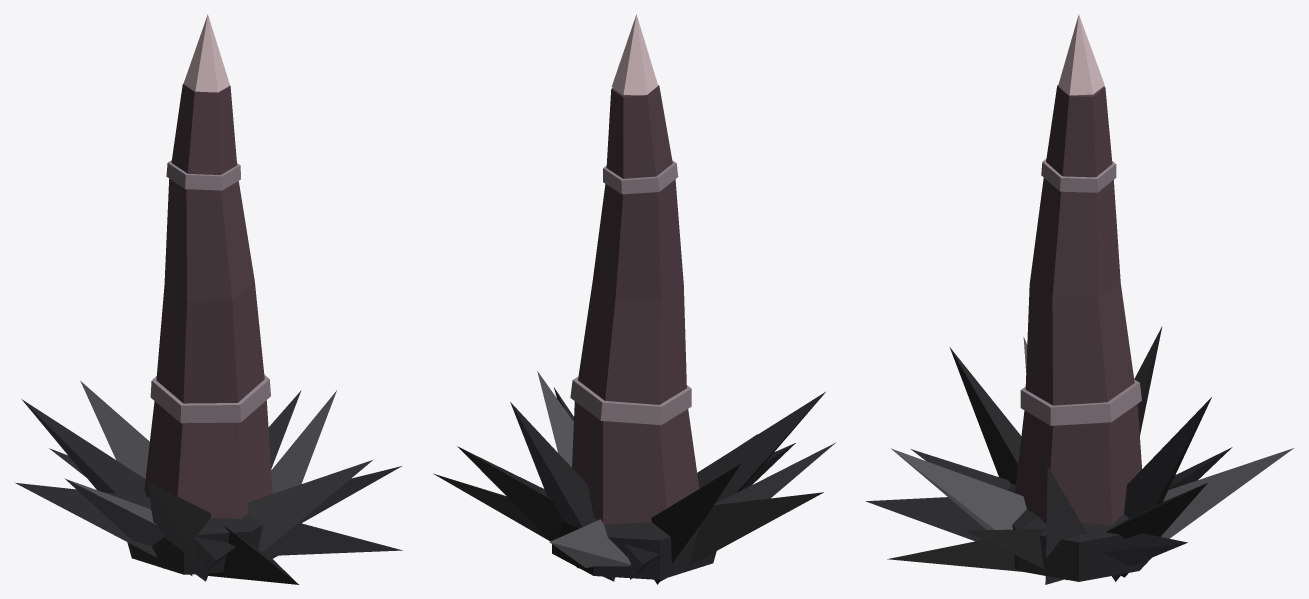
The model's file is twisted_support_vertical.obj.
The picture shows the model from 3 angles, left to right: view 1: azimuth 30°, elevation 25°; view 2: azimuth 150°, elevation 25°; view 3: azimuth 270°, elevation 25°; orthographic projection.
Visible parts, largest first — view 1: twisted_support_vertical_17, twisted_support_vertical_13, twisted_support_vertical_7, twisted_support_vertical_0, twisted_support_vertical_10, twisted_support_vertical_19, twisted_support_vertical_14, twisted_support_vertical_5, twisted_support_vertical_9, twisted_support_vertical_8, twisted_support_vertical_12, twisted_support_vertical_1 (+5 smaller); view 2: twisted_support_vertical_17, twisted_support_vertical_0, twisted_support_vertical_4, twisted_support_vertical_8, twisted_support_vertical_10, twisted_support_vertical_3, twisted_support_vertical_19, twisted_support_vertical_7, twisted_support_vertical_5, twisted_support_vertical_18, twisted_support_vertical_9, twisted_support_vertical_1 (+3 smaller); view 3: twisted_support_vertical_17, twisted_support_vertical_0, twisted_support_vertical_13, twisted_support_vertical_4, twisted_support_vertical_10, twisted_support_vertical_5, twisted_support_vertical_19, twisted_support_vertical_12, twisted_support_vertical_14, twisted_support_vertical_18, twisted_support_vertical_3, twisted_support_vertical_1 (+6 smaller).
Part boxes in pixels (x1=…): twisted_support_vertical_17: x1=144, y1=84, x2=272, y2=518; twisted_support_vertical_13: x1=248, y1=459, x2=373, y2=551; twisted_support_vertical_7: x1=21, y1=399, x2=146, y2=496; twisted_support_vertical_0: x1=127, y1=509, x2=277, y2=574; twisted_support_vertical_10: x1=147, y1=482, x2=210, y2=581; twisted_support_vertical_19: x1=150, y1=375, x2=270, y2=423; twisted_support_vertical_14: x1=264, y1=522, x2=402, y2=555; twisted_support_vertical_5: x1=80, y1=381, x2=149, y2=478; twisted_support_vertical_9: x1=64, y1=478, x2=163, y2=568; twisted_support_vertical_8: x1=15, y1=483, x2=192, y2=575; twisted_support_vertical_12: x1=208, y1=525, x2=298, y2=584; twisted_support_vertical_1: x1=271, y1=390, x2=336, y2=493; twisted_support_vertical_17: x1=572, y1=85, x2=699, y2=523; twisted_support_vertical_0: x1=552, y1=517, x2=716, y2=579; twisted_support_vertical_4: x1=510, y1=402, x2=615, y2=581; twisted_support_vertical_8: x1=660, y1=492, x2=823, y2=581; twisted_support_vertical_10: x1=697, y1=392, x2=825, y2=503; twisted_support_vertical_3: x1=457, y1=446, x2=578, y2=568; twisted_support_vertical_19: x1=570, y1=376, x2=691, y2=425; twisted_support_vertical_7: x1=651, y1=464, x2=740, y2=584; twisted_support_vertical_5: x1=549, y1=519, x2=630, y2=567; twisted_support_vertical_18: x1=611, y1=14, x2=657, y2=95; twisted_support_vertical_9: x1=714, y1=442, x2=835, y2=504; twisted_support_vertical_1: x1=537, y1=371, x2=573, y2=467; twisted_support_vertical_17: x1=1015, y1=85, x2=1141, y2=525; twisted_support_vertical_0: x1=1007, y1=484, x2=1151, y2=581; twisted_support_vertical_13: x1=891, y1=448, x2=1026, y2=529; twisted_support_vertical_4: x1=1112, y1=397, x2=1211, y2=581; twisted_support_vertical_10: x1=949, y1=347, x2=1021, y2=484; twisted_support_vertical_5: x1=1161, y1=448, x2=1293, y2=538; twisted_support_vertical_19: x1=1020, y1=379, x2=1141, y2=425; twisted_support_vertical_12: x1=866, y1=497, x2=986, y2=541; twisted_support_vertical_14: x1=887, y1=539, x2=1022, y2=571; twisted_support_vertical_18: x1=1058, y1=14, x2=1104, y2=95; twisted_support_vertical_3: x1=1106, y1=483, x2=1207, y2=577; twisted_support_vertical_1: x1=1045, y1=466, x2=1087, y2=584.
Size of the model in its own units: 2.71 by 4.15 by 2.96.
